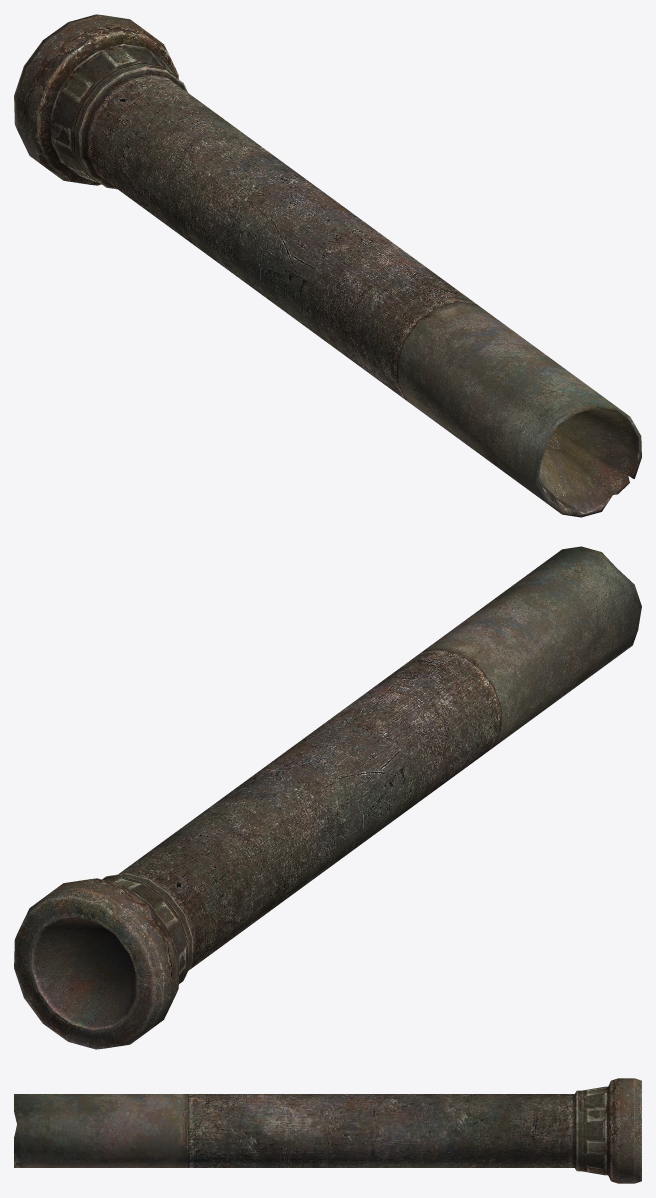
File: pipe_broken_large.dae
3 renders of one model, top to bottom at view 1: azimuth 30°, elevation 25°; view 2: azimuth 150°, elevation 25°; view 3: azimuth 270°, elevation 25°, orthographic. The views are drawn at different scales.
Parts seen in each view (by area): view 1: pipe_broken_large__2_; view 2: pipe_broken_large__2_; view 3: pipe_broken_large__2_.
Part boxes in pixels (x1,y1,x2,y2): pipe_broken_large__2_: (14,14,641,517); pipe_broken_large__2_: (14,546,641,1049); pipe_broken_large__2_: (14,1078,641,1183).
Size of the model in its own units: 0.4907 by 0.4907 by 2.91.
